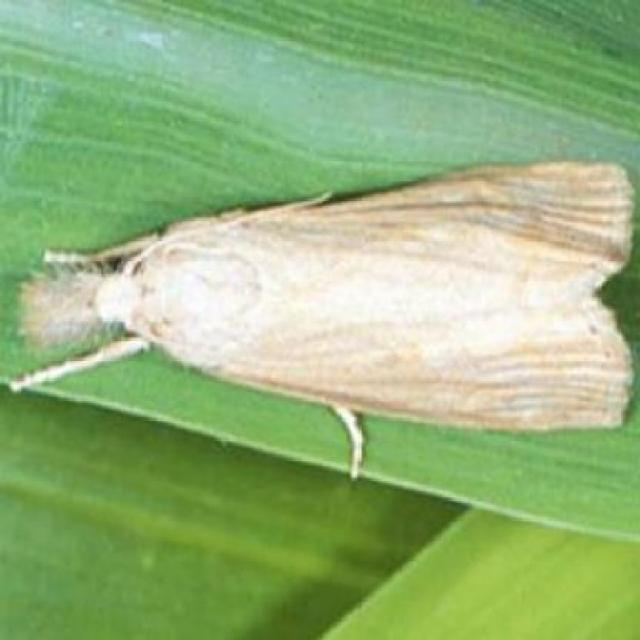stem-borer: (6, 149, 640, 488)
